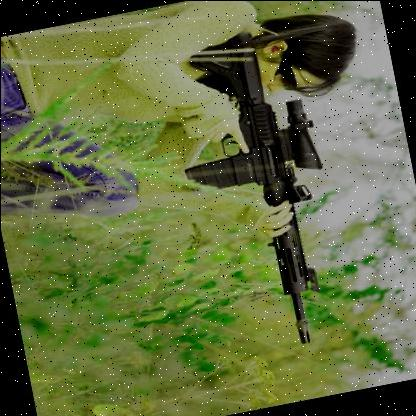rifle: (161, 21, 358, 367)
